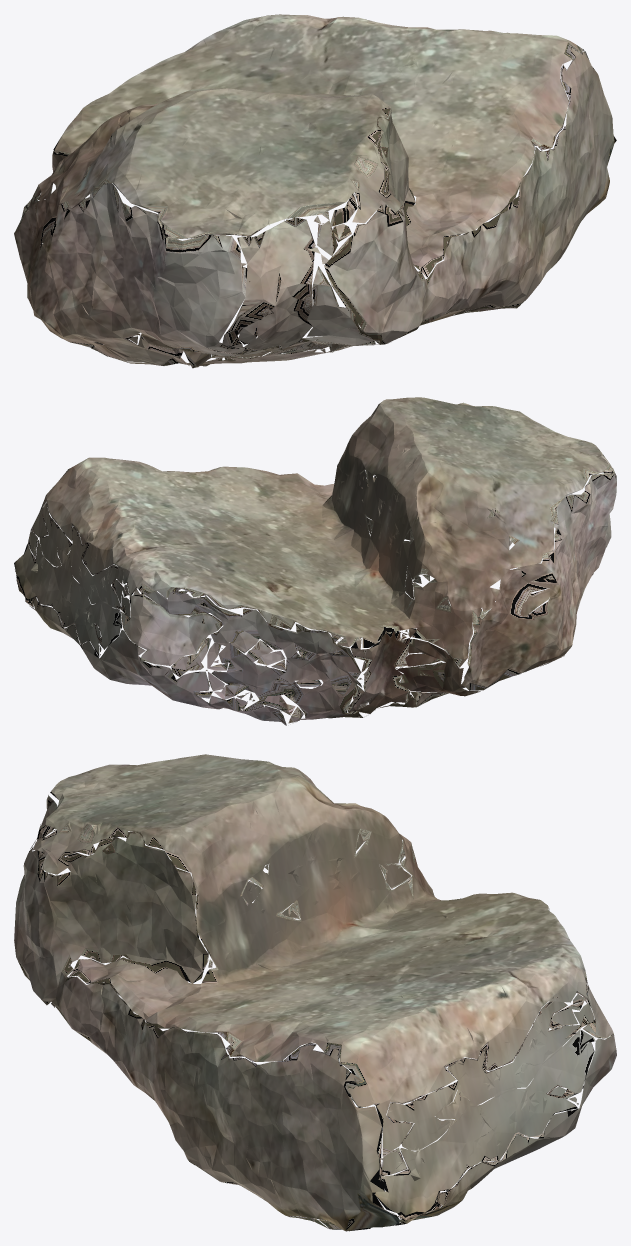
The model's file is FRAG-S1-FS-007.glb.
The picture shows the model from 3 angles, top to bottom: view 1: azimuth 30°, elevation 25°; view 2: azimuth 150°, elevation 25°; view 3: azimuth 270°, elevation 25°; orthographic projection. The views are drawn at different scales.
Visible parts, largest first — view 1: geometry_0; view 2: geometry_0; view 3: geometry_0.
Boxes of the visible parts, <box> form: geometry_0: <box>14,14,616,368</box>; geometry_0: <box>14,397,616,725</box>; geometry_0: <box>14,754,616,1231</box>.
Size of the model in its own units: 0.9381 by 0.3923 by 0.7794.
1 material, 1 textured.
